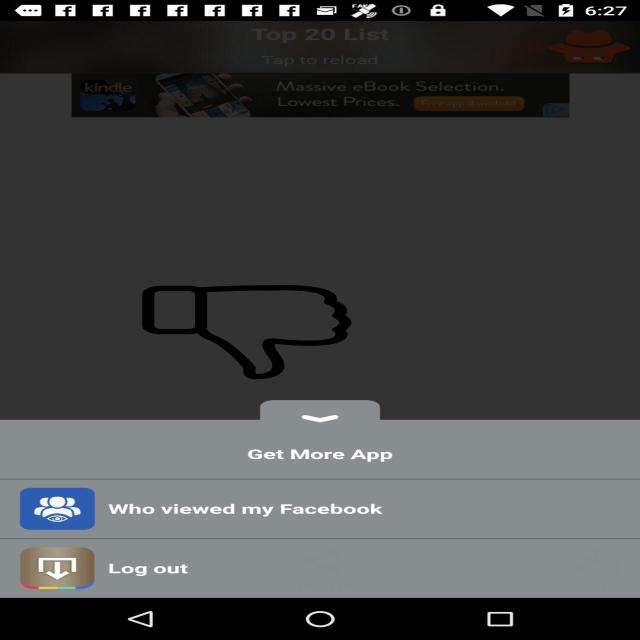obstruction: (140, 285, 354, 379)
